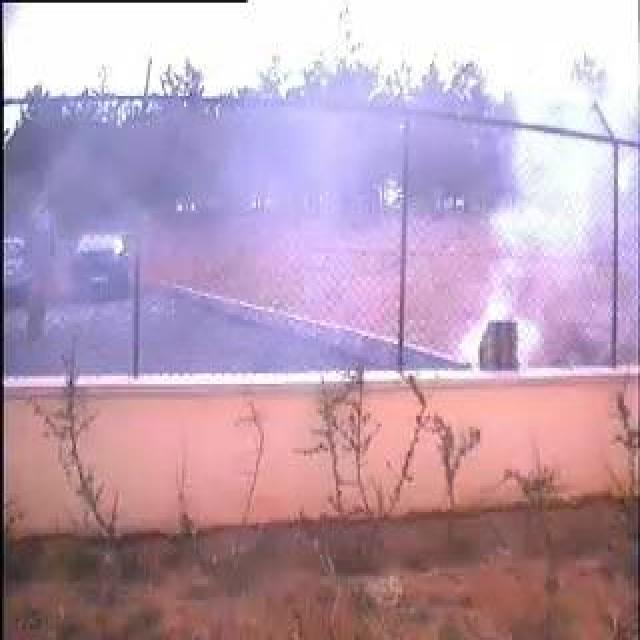Smoke: (456, 97, 626, 372)
